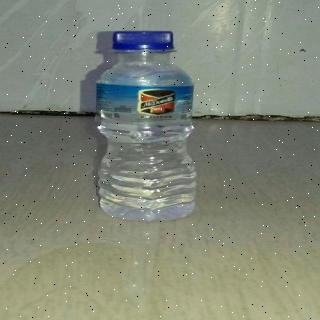Plastic-bottle: (93, 29, 207, 225)
